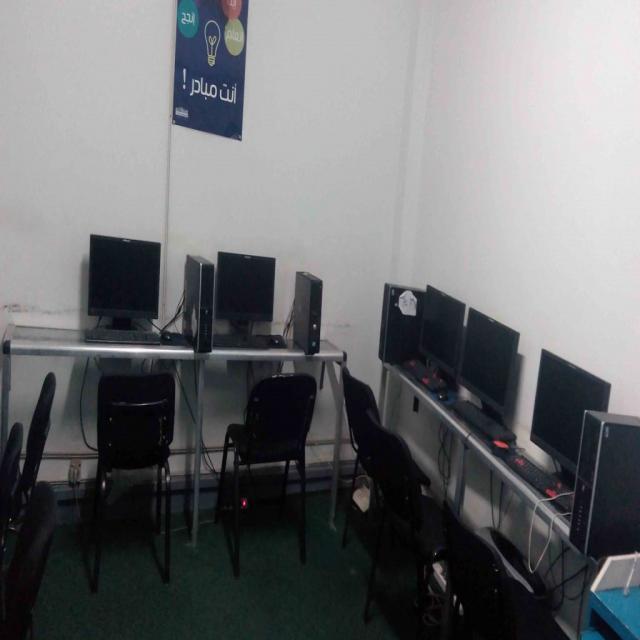chair: (448, 498, 542, 640), (96, 386, 180, 544), (342, 375, 424, 529), (238, 375, 318, 531), (369, 410, 450, 551)
computer: (521, 344, 626, 477), (86, 234, 170, 348), (446, 306, 530, 401), (216, 248, 294, 345), (396, 279, 475, 374)
desk: (18, 260, 194, 384), (210, 269, 350, 378), (500, 400, 602, 528), (390, 293, 458, 411), (452, 344, 511, 465)
